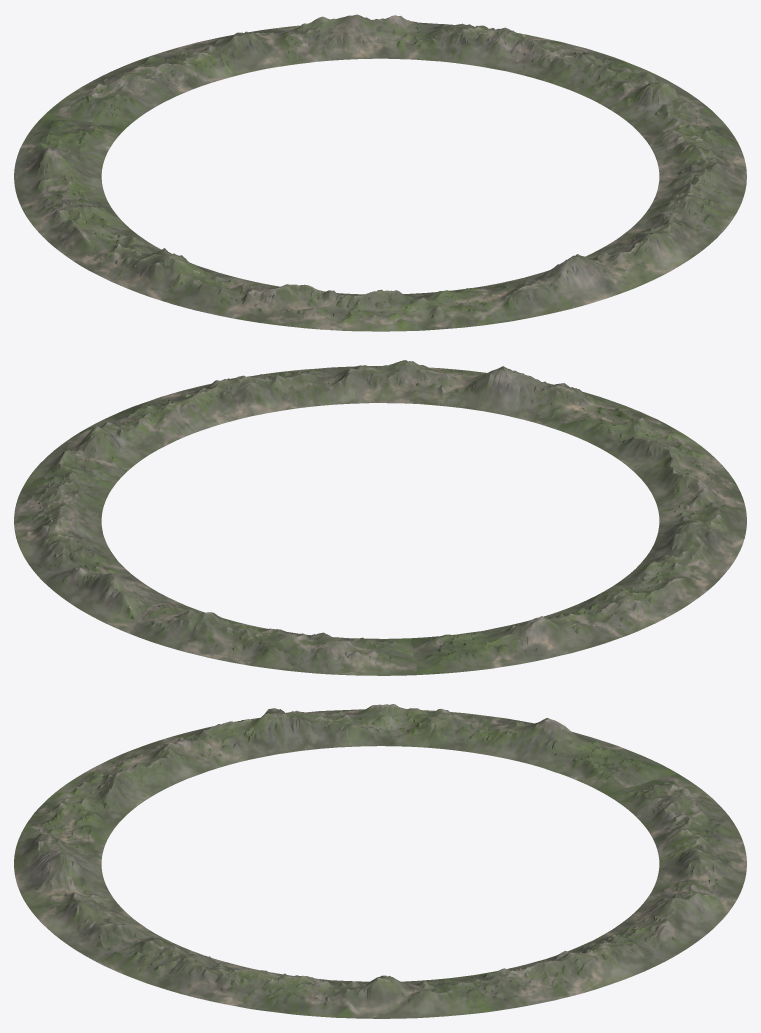
Rendered from SM_MountainRing.glb.
3 renders of one model, top to bottom at view 1: azimuth 30°, elevation 25°; view 2: azimuth 150°, elevation 25°; view 3: azimuth 270°, elevation 25°, orthographic.
Visible parts, largest first — view 1: SM_MountainRing; view 2: SM_MountainRing; view 3: SM_MountainRing.
Boxes of the visible parts, x1=… form: SM_MountainRing: x1=14, y1=14, x2=746, y2=331; SM_MountainRing: x1=14, y1=360, x2=746, y2=675; SM_MountainRing: x1=14, y1=704, x2=746, y2=1018.
Bounding box in the file's own units: 418 × 18.16 × 418.
1 material, 1 textured.
